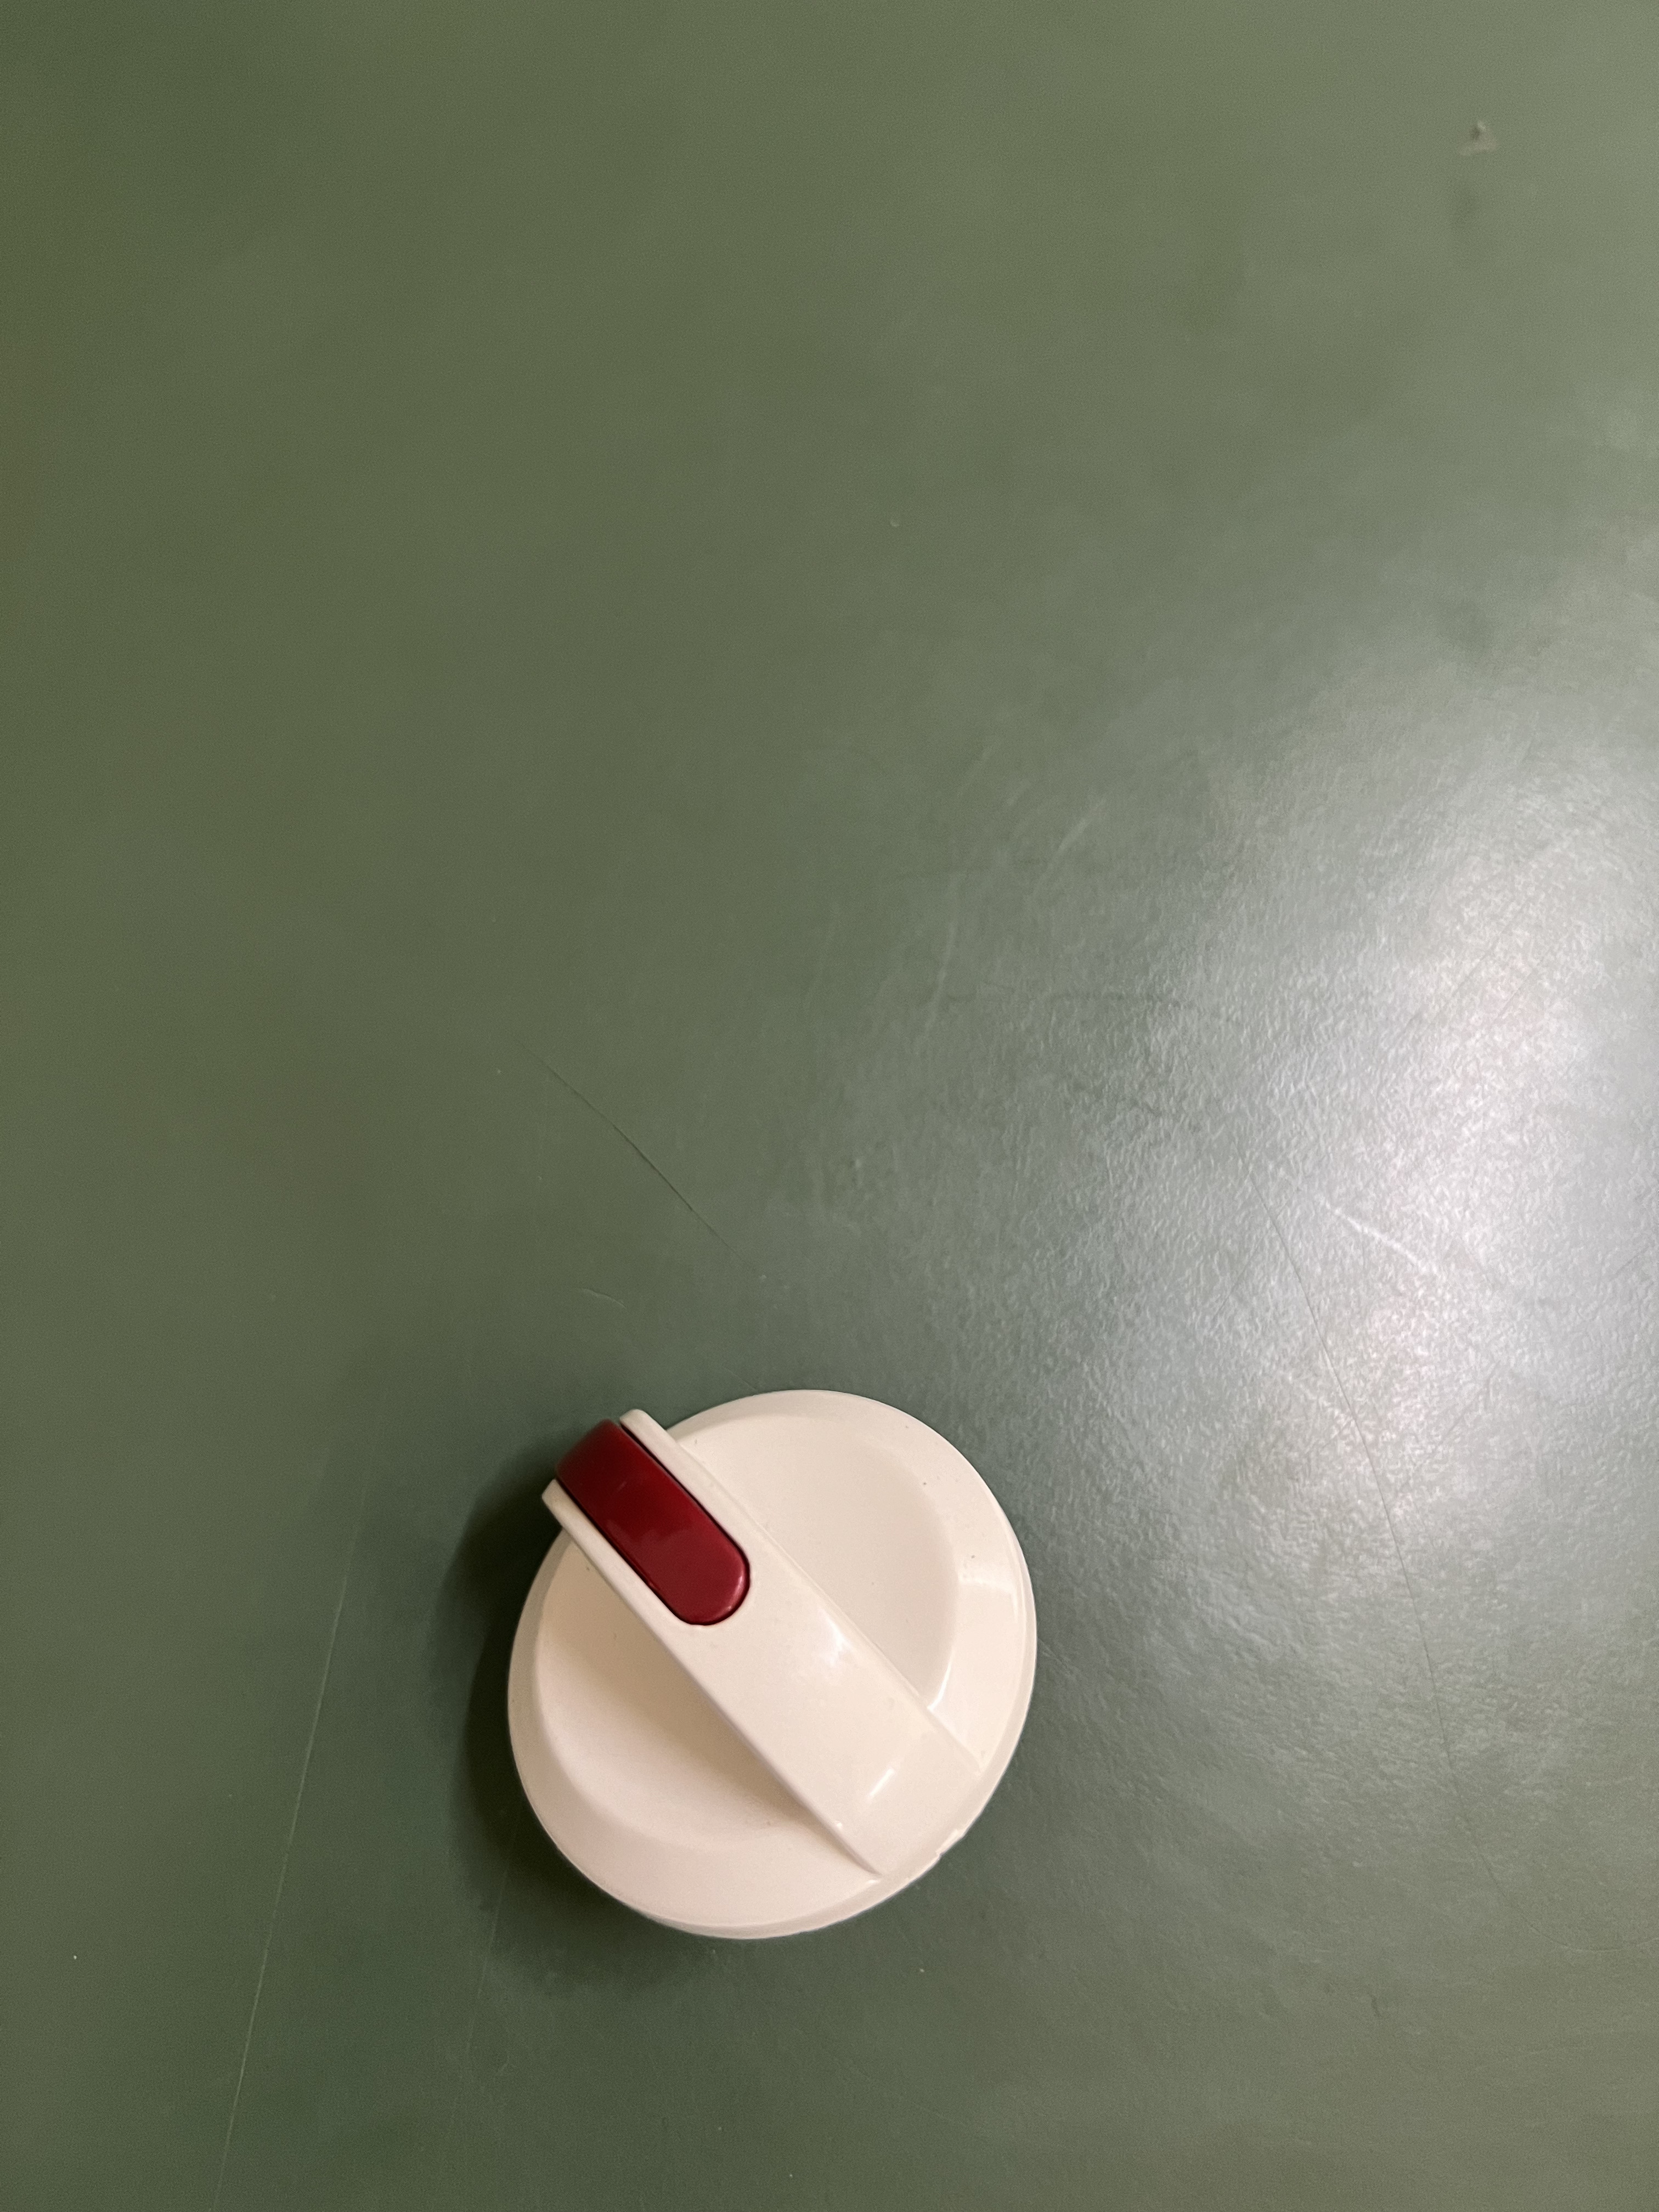regulator: (471, 1341, 1061, 1939)
